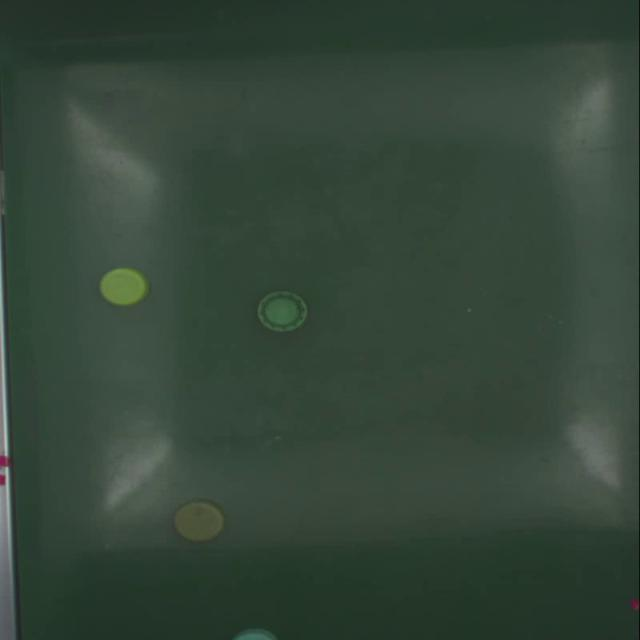others: (256, 293, 308, 332), (173, 502, 225, 541), (96, 267, 148, 306)
